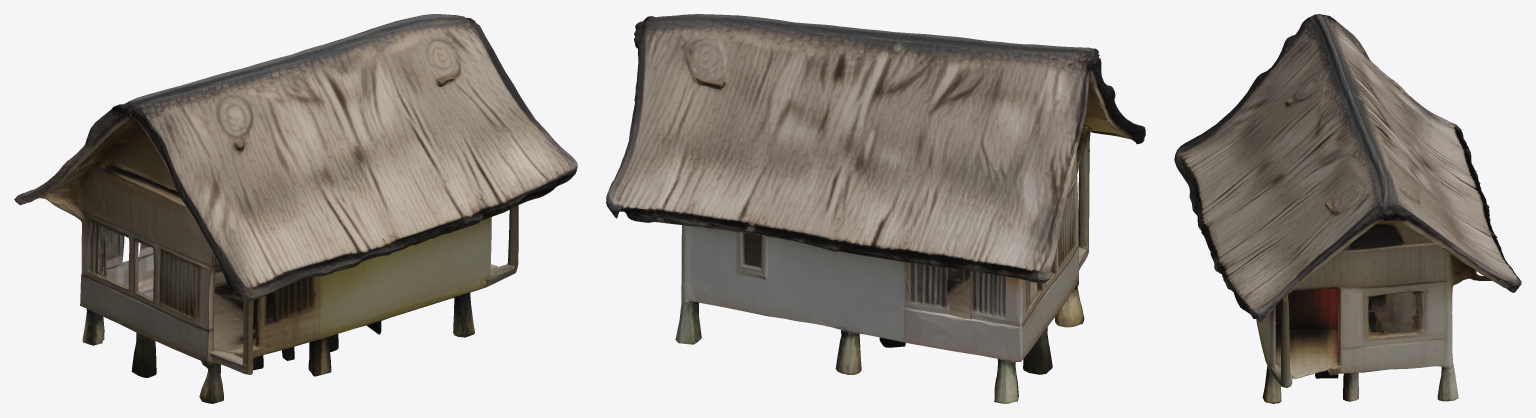
File: 054_GIANLUIGI_RUMAH_1.glb
3 renders of one model, left to right at view 1: azimuth 30°, elevation 25°; view 2: azimuth 150°, elevation 25°; view 3: azimuth 270°, elevation 25°, orthographic. The views are drawn at different scales.
Parts seen in each view (by area): view 1: world; view 2: world; view 3: world.
Part boxes in pixels (x1,y1,x2,y2): world: (14,14,577,403); world: (606,14,1145,403); world: (1174,14,1521,403).
Bounding box in the file's own units: 0.9335 × 0.5785 × 0.7048.
1 material, 1 textured.
